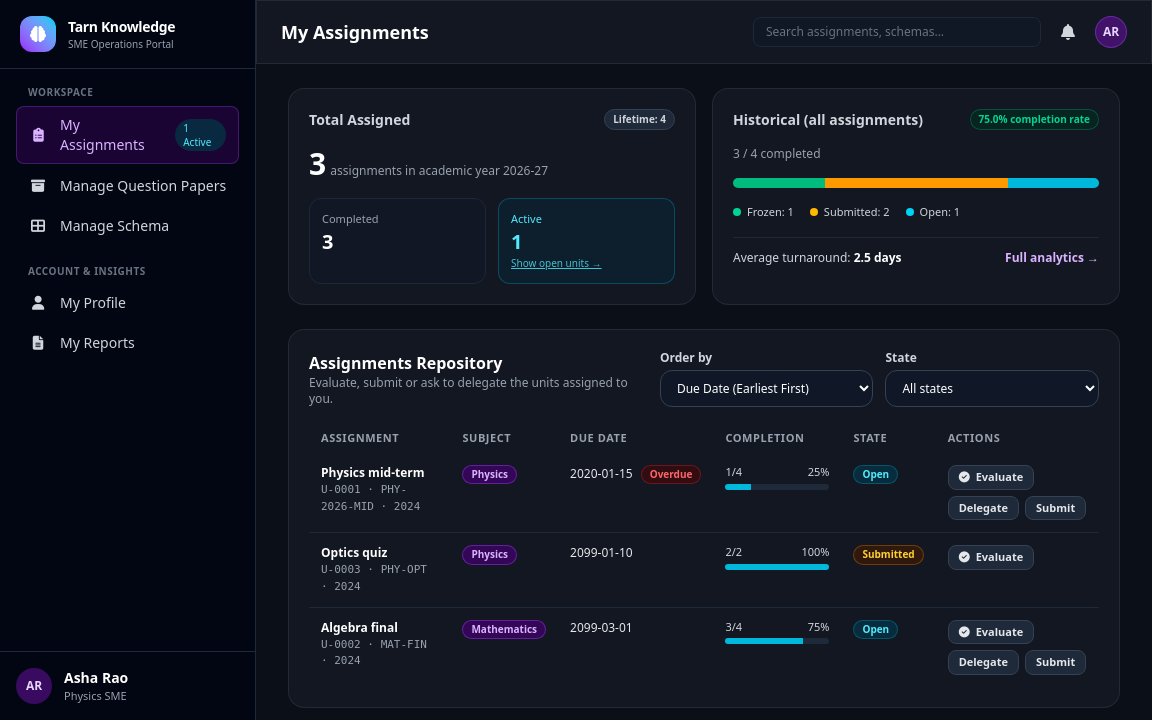
Test: My Assignments (P31, D216) › opens the student list of the unit (P32)
Click the link with aria-label "Evaluate U-0002" at (991, 632), box [948,620,1034,644]
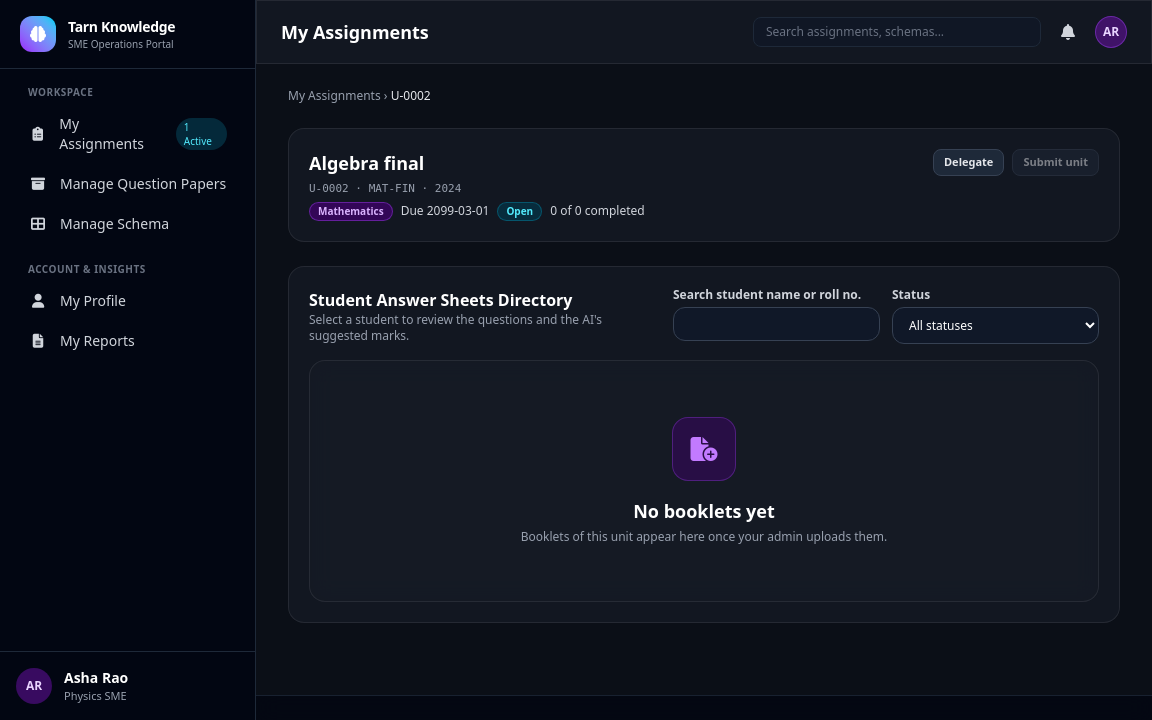
Expected: the heading "Algebra final" is shown, [309,151,424,175]
Expected: the heading "No booklets yet" is shown, [633,497,775,525]
